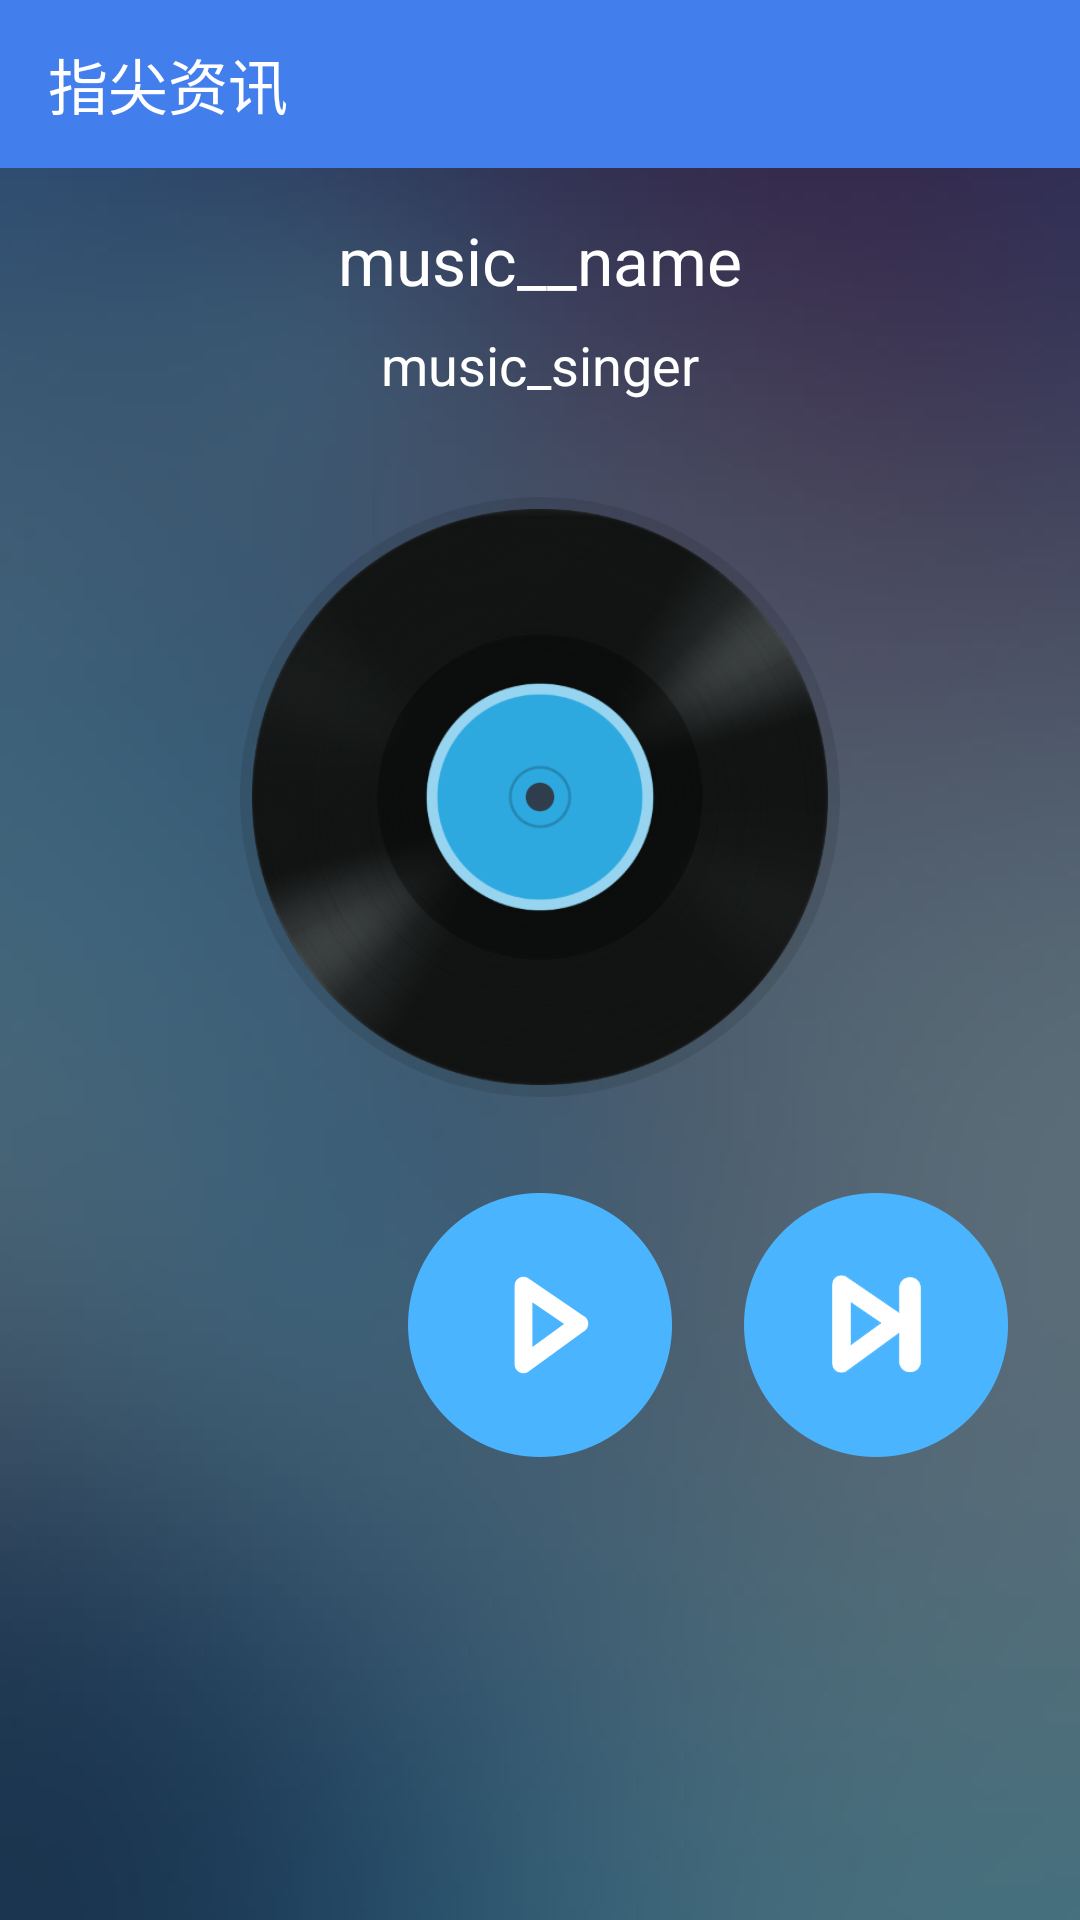

Icons on this 1080×1920 Android screen, each with its box as (x1, y1, x2, y2):
music next: (744, 1193, 1008, 1457)
music play: (408, 1193, 672, 1457)
